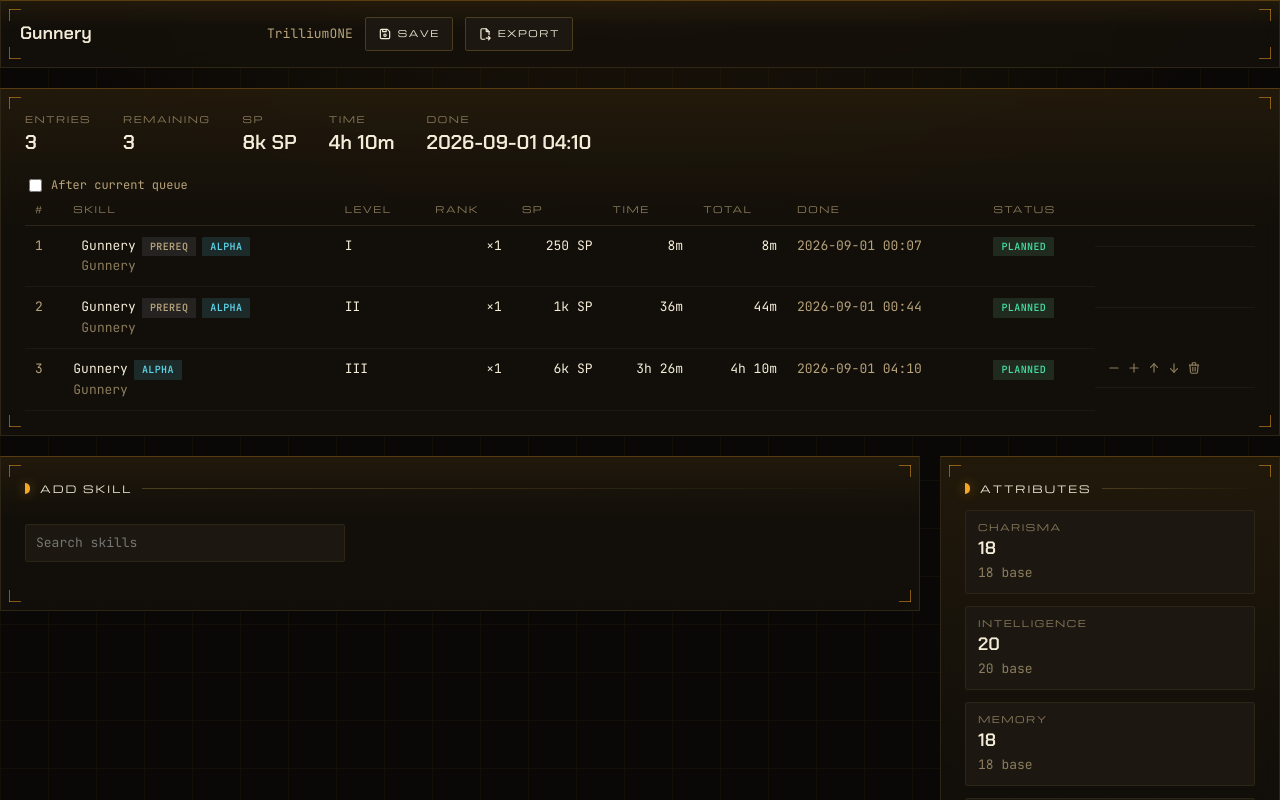
Scenario: PlanEditor › shows an error line in the export modal when the export fetch fails
The image size is (1280, 800).
Click the button "Export" at (519, 34), box [465,17,573,51]
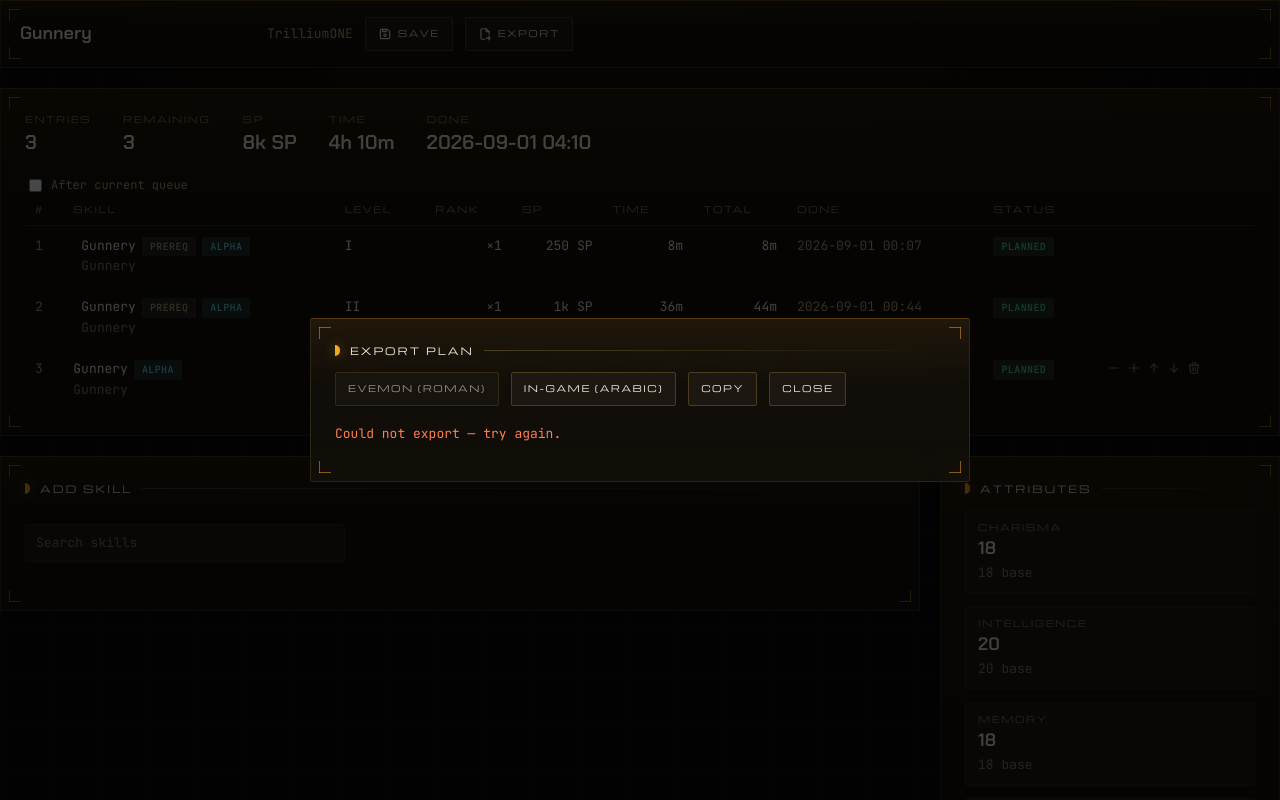
Expected: the text "Could not export — try again." is shown, [335,425,561,442]
